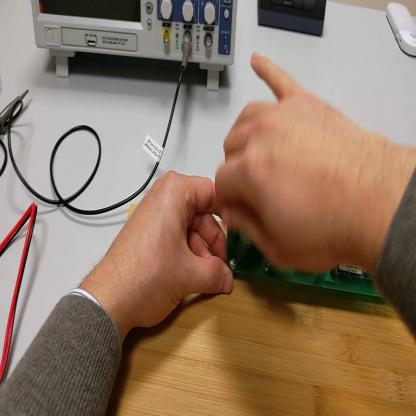hand: (214, 52, 367, 269), (115, 170, 234, 332)
high voltage board: (230, 227, 388, 300)
oscilloscope: (31, 1, 239, 94)
oscilloscope probe tip: (2, 90, 29, 140)
working area: (106, 202, 416, 416)
